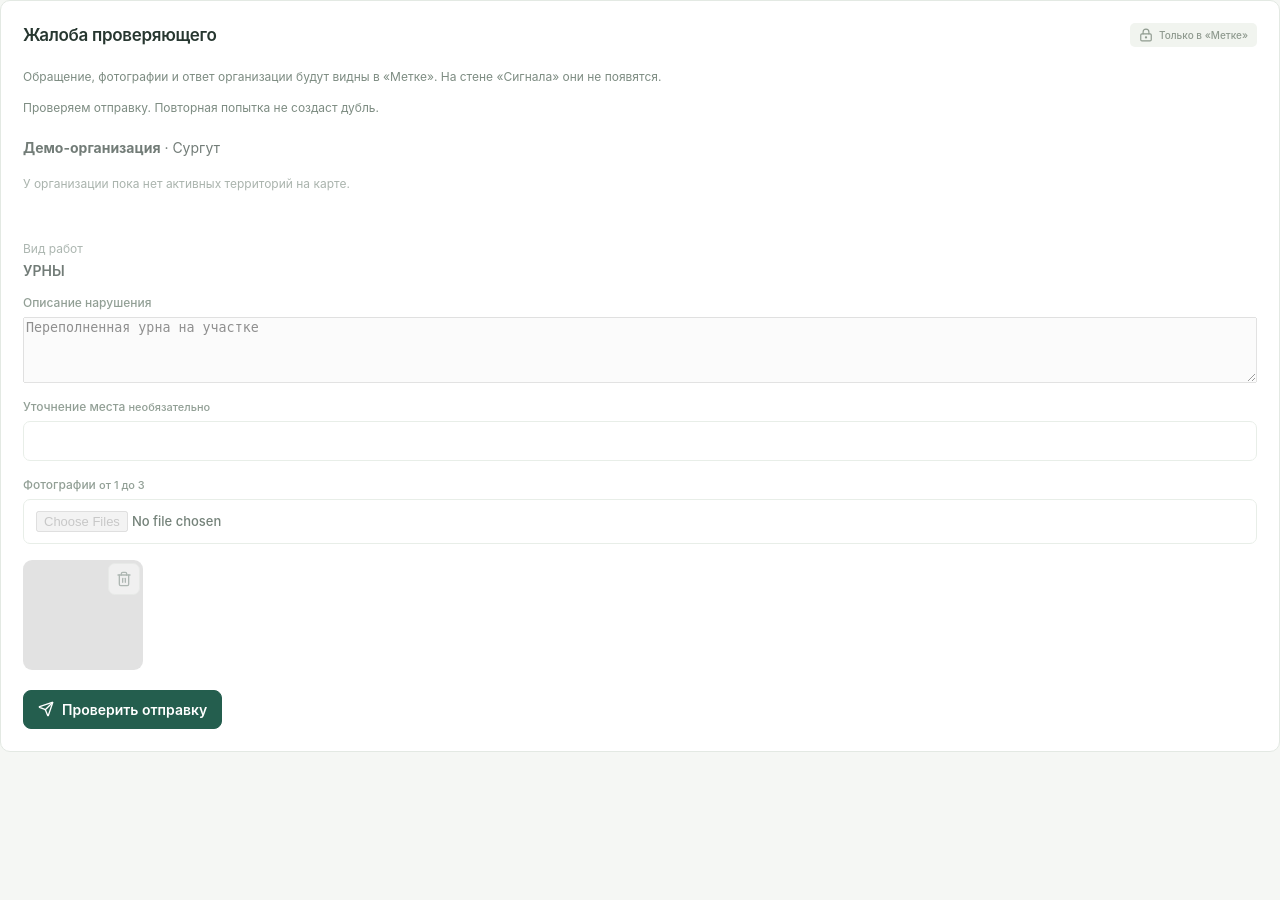
Test case: recovers a pending receipt even when the organization address catalog has changed
The width and height of the screenshot is (1280, 900).
Click the button "Проверить отправку": click(123, 710) [23,690,222,729]
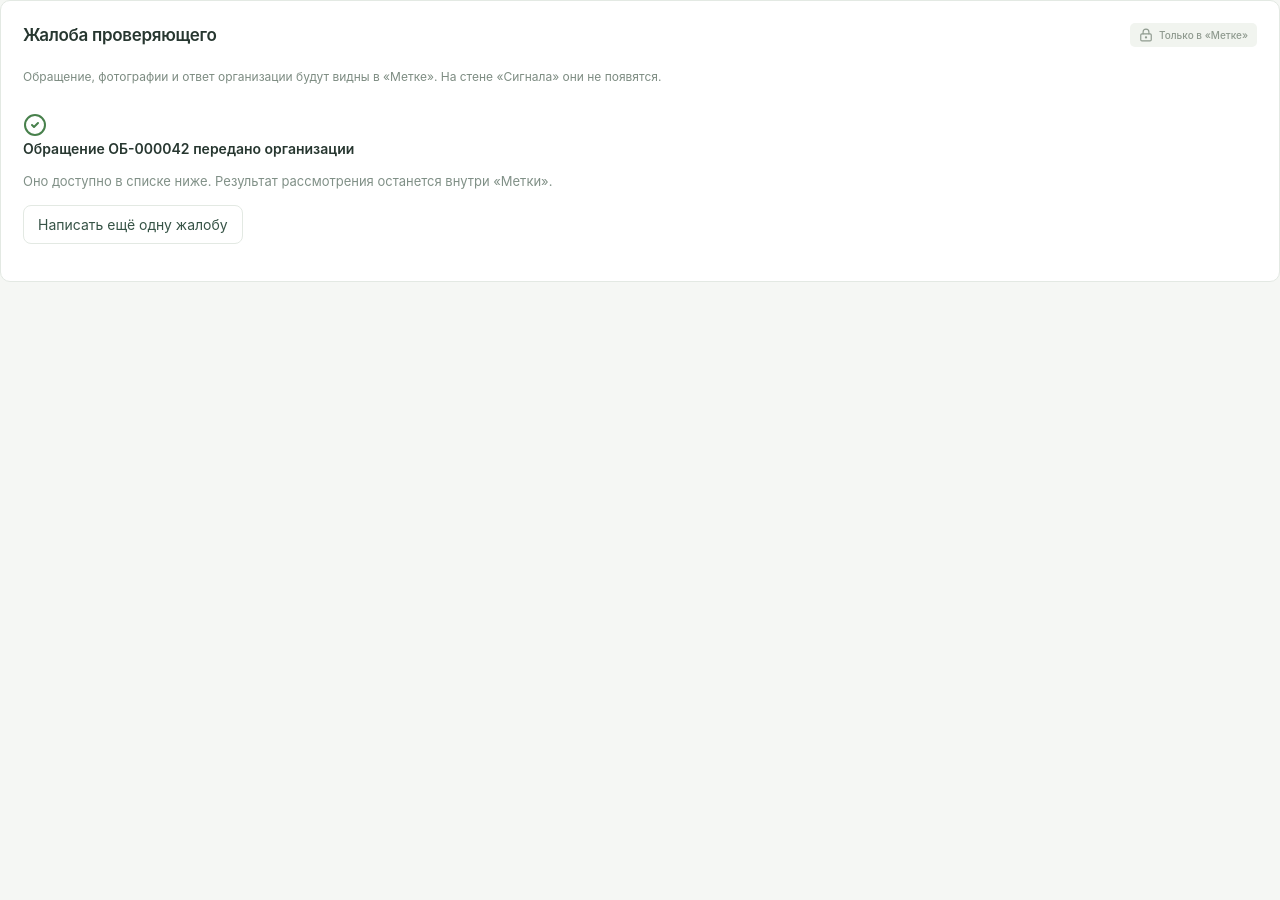
Check: the text "ОБ-000042" is shown, box [108,140,190,157]
